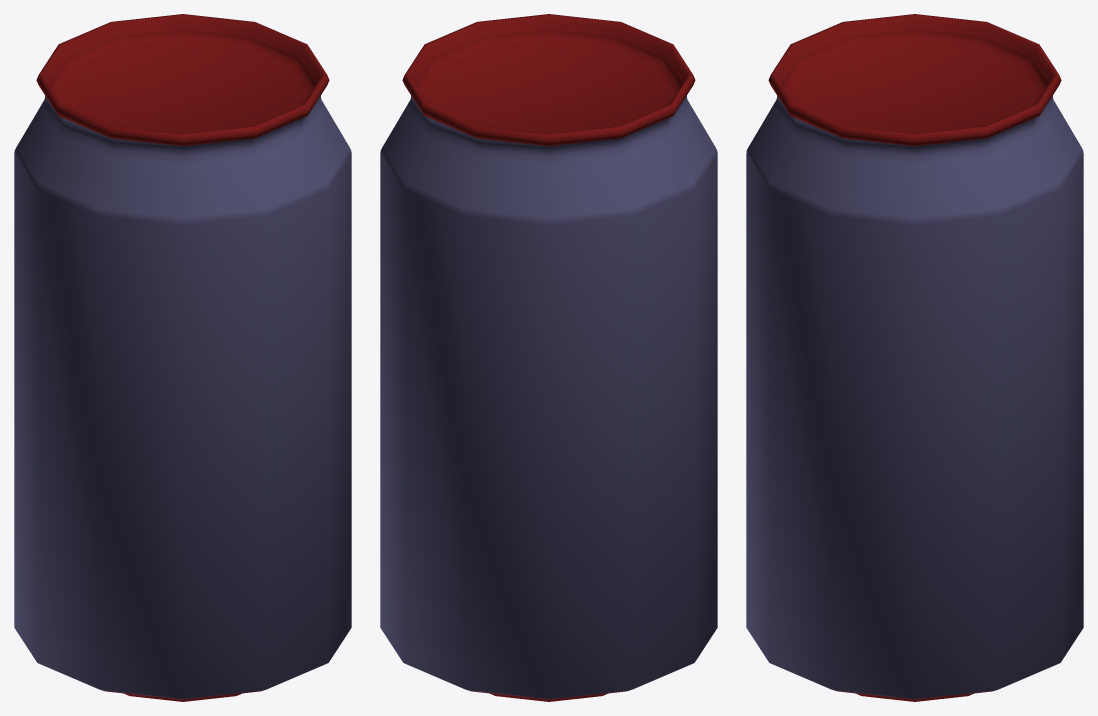
File: Soda_Can.fbx
3 renders of one model, left to right at view 1: azimuth 30°, elevation 25°; view 2: azimuth 150°, elevation 25°; view 3: azimuth 270°, elevation 25°, orthographic.
Visible parts, largest first — view 1: Soda_Can_Low; view 2: Soda_Can_Low; view 3: Soda_Can_Low.
Part boxes in pixels (<box>): Soda_Can_Low: <box>14,14,351,701</box>; Soda_Can_Low: <box>380,14,717,701</box>; Soda_Can_Low: <box>746,14,1083,701</box>.
Bounding box in the file's own units: 10.25 × 19.58 × 10.29.
